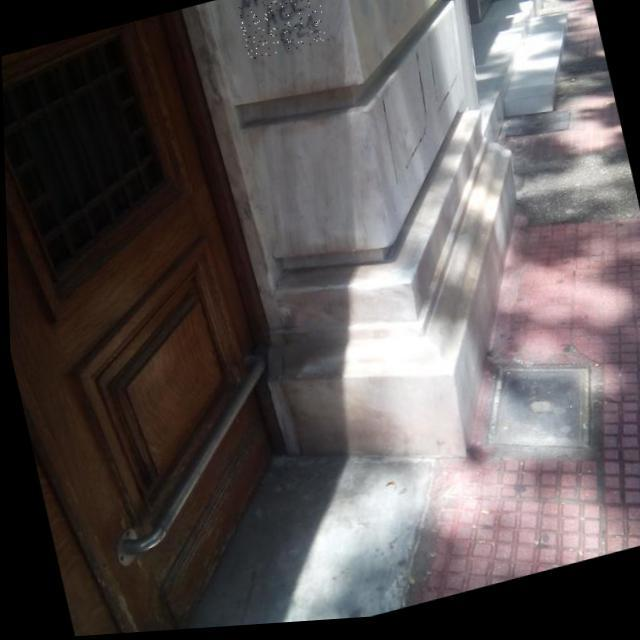-: (233, 0, 328, 65)
